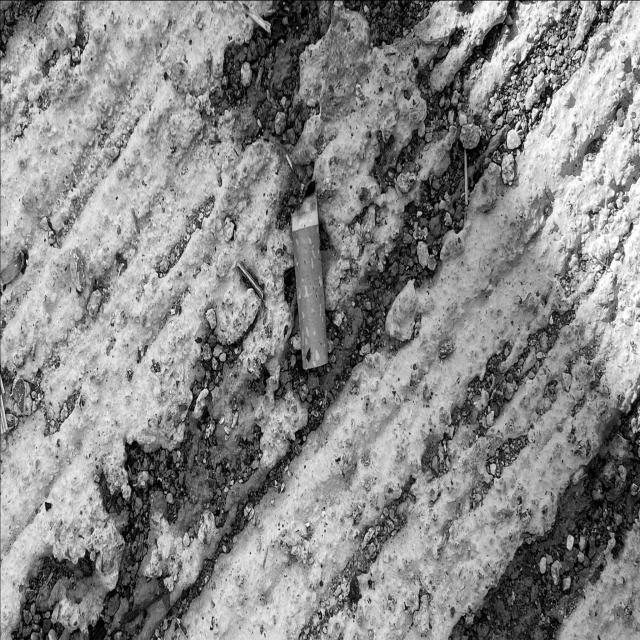other waste: (281, 176, 330, 372)
